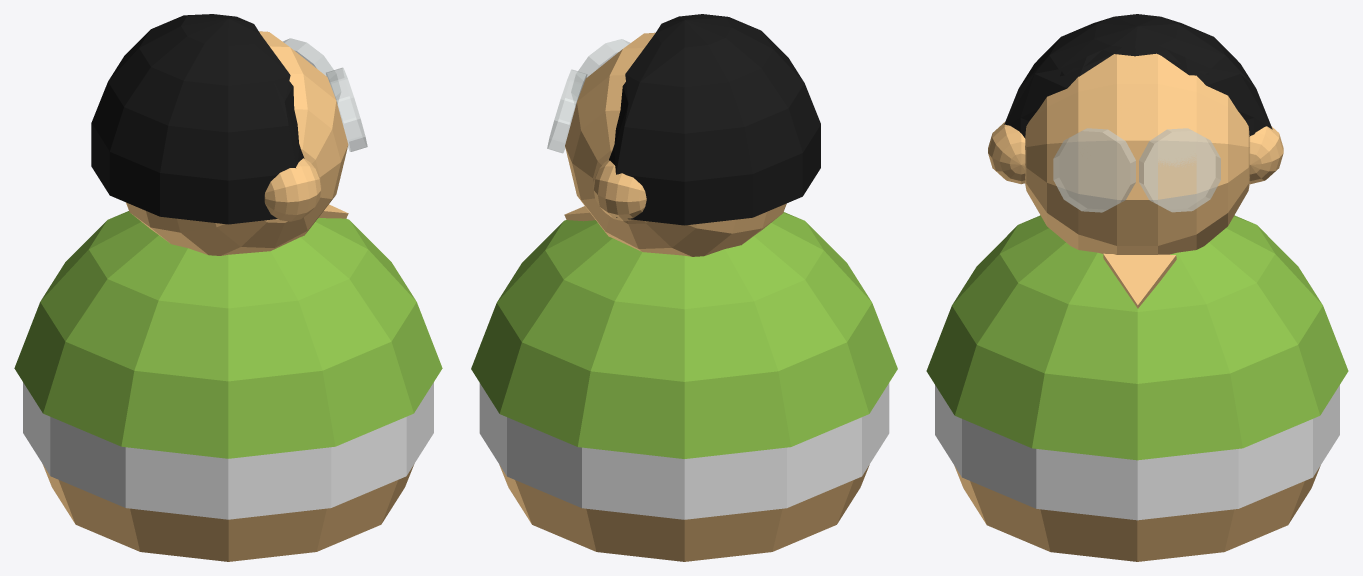
File: Student.glb
3 renders of one model, left to right at view 1: azimuth 30°, elevation 25°; view 2: azimuth 150°, elevation 25°; view 3: azimuth 270°, elevation 25°, orthographic.
Visible parts, largest first — view 1: group760411502, group1247805973, group993846406, group844514553, group1824465911, group2069521684, group2121888304, group850457554; view 2: group760411502, group1247805973, group993846406, group844514553, group1824465911, group956058354, group850457554, group2121888304; view 3: group760411502, group1824465911, group993846406, group844514553, group1247805973, group2121888304, group850457554, group1010533560, group2069521684, group956058354, group970962896.
Part boxes in pixels (x1,y1,x2,y2): group760411502: [14, 211, 442, 458]; group1247805973: [91, 14, 304, 224]; group993846406: [23, 382, 433, 519]; group844514553: [43, 465, 413, 561]; group1824465911: [126, 31, 348, 255]; group2069521684: [264, 158, 321, 221]; group2121888304: [326, 67, 367, 151]; group850457554: [283, 38, 340, 103]; group760411502: [471, 212, 897, 458]; group1247805973: [609, 14, 820, 225]; group993846406: [479, 383, 889, 519]; group844514553: [499, 465, 869, 561]; group1824465911: [565, 32, 786, 256]; group956058354: [593, 160, 646, 221]; group850457554: [547, 69, 587, 153]; group2121888304: [571, 39, 630, 105]; group760411502: [926, 215, 1348, 460]; group1824465911: [1025, 53, 1249, 254]; group993846406: [935, 385, 1339, 520]; group844514553: [954, 465, 1320, 561]; group1247805973: [1004, 14, 1272, 138]; group2121888304: [1053, 128, 1135, 212]; group850457554: [1139, 128, 1220, 212]; group1010533560: [1103, 253, 1176, 308]; group2069521684: [988, 122, 1025, 184]; group956058354: [1249, 126, 1283, 184]; group970962896: [1060, 45, 1208, 76].
Bounding box in the file's own units: 0.25 × 0.302 × 0.25.
